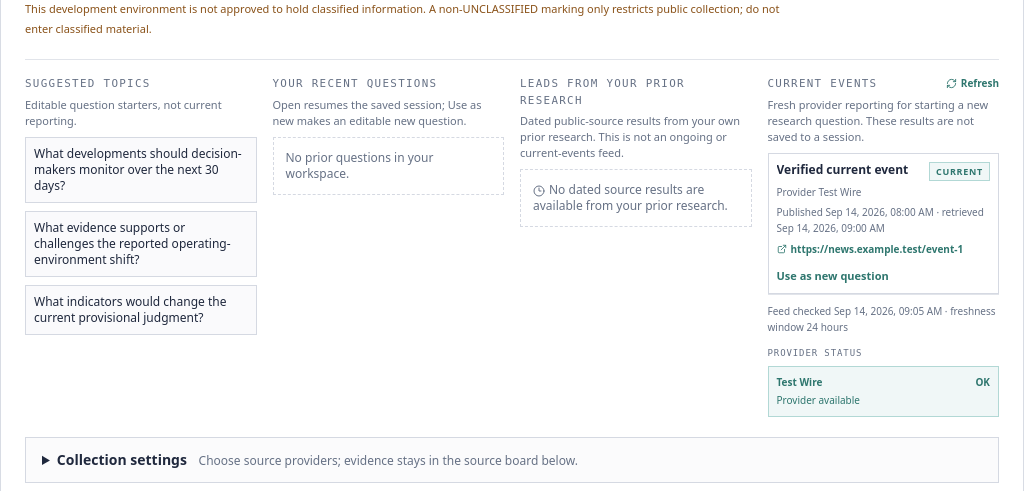
Test case: workbench resume and classification transitions › uses a current event as an editable new question without mutating an existing session
(page scrolled)
Click the button with test id "button-use-current-event-event-1".
click(833, 276)  # box [776,268,889,285]
(page scrolled)
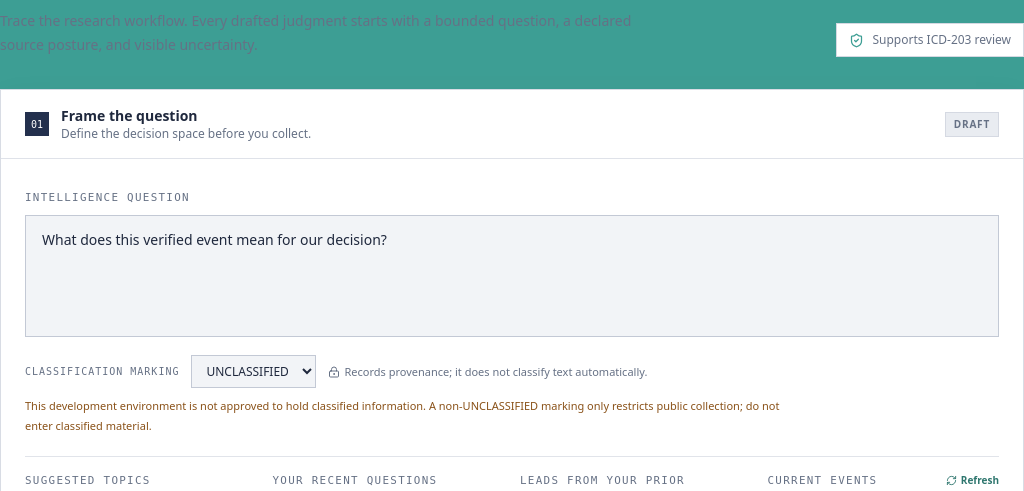
Now the text box with test id "input-research-prompt" holds "What does this verified event mean for our decision?", box [25,215,999,337]
